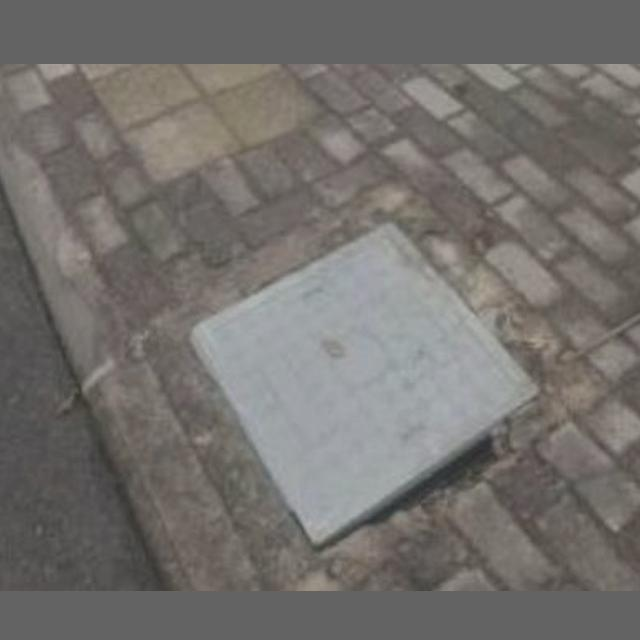good: (182, 208, 547, 546)
